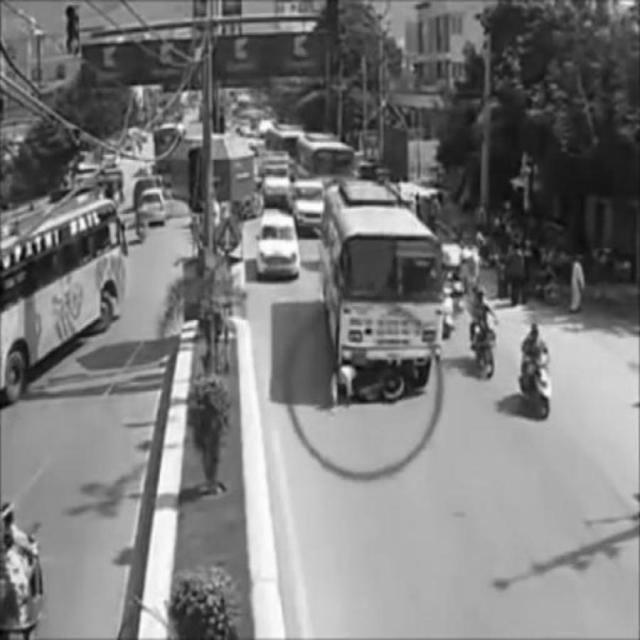accident: (323, 186, 444, 408)
vehicle: (3, 192, 127, 396), (516, 321, 552, 417), (260, 212, 302, 285), (465, 293, 499, 381)
